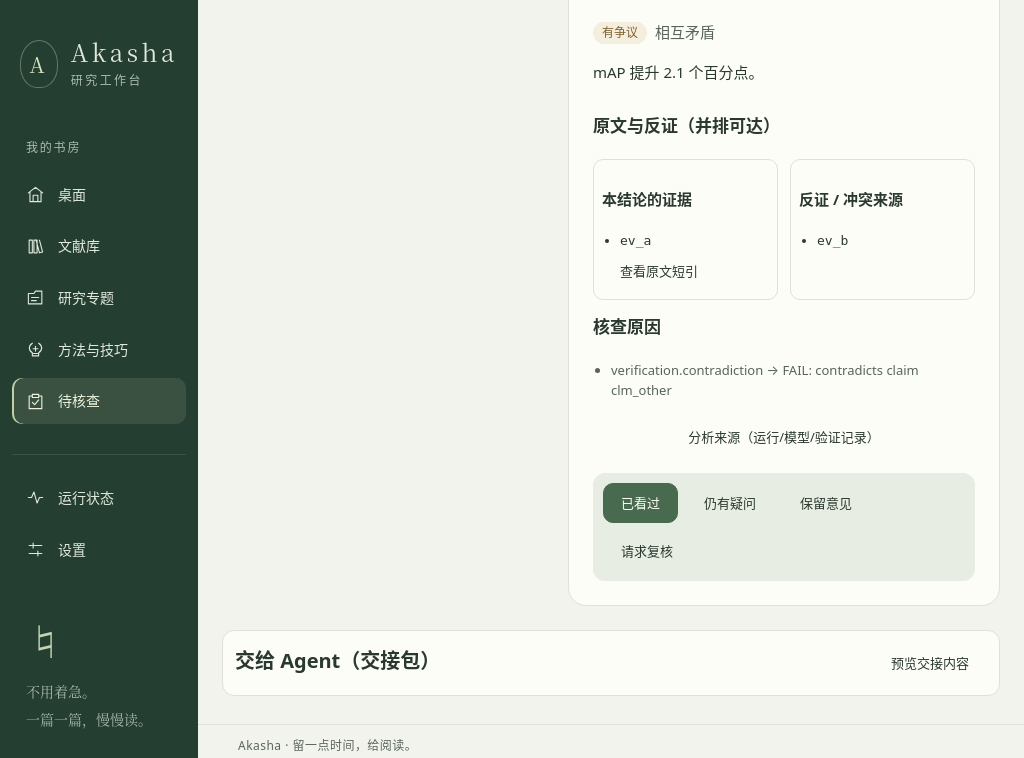
it: UX-034 disputed claim and counter-evidence are side by side › keeps run and verification records behind an explicit expander
(page scrolled)
Click the button with test id "toggle-sources".
click(784, 437)  # box [593,416,975,457]
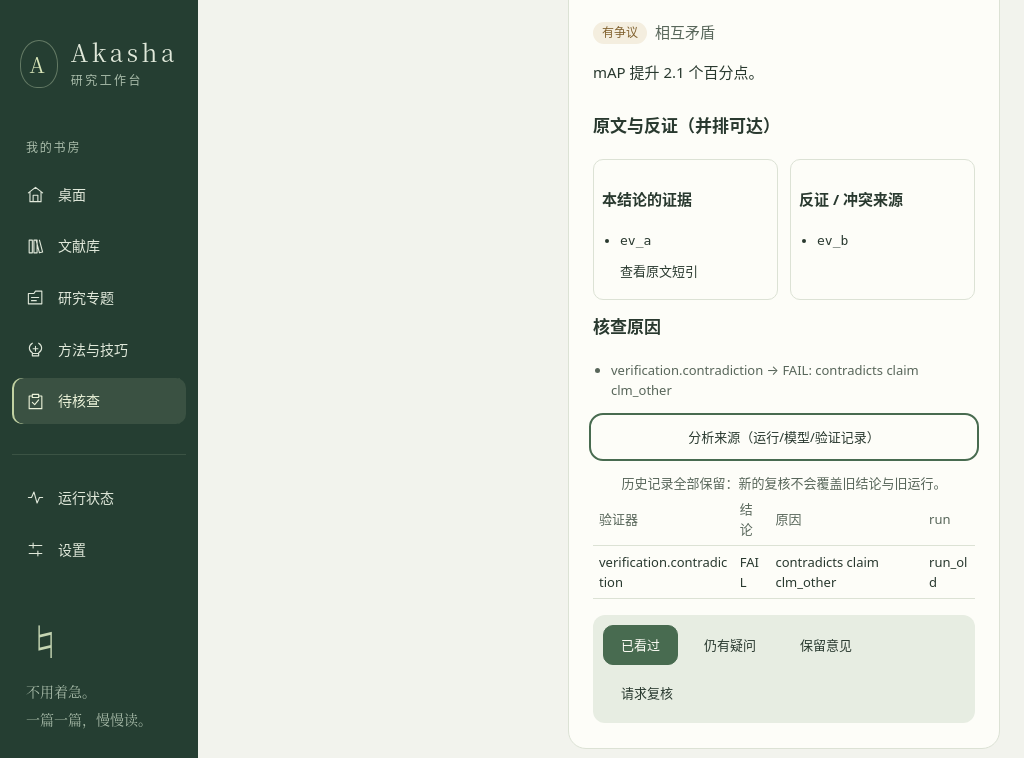
Expected: the element with test id "verification-records" shows "verification.contradiction", [599,553,727,591]
Expected: the element with test id "verification-records" shows "run_old", [929,553,967,591]
Expected: the element with test id "verification-records" shows "历史记录全部保留", [622,474,946,492]
